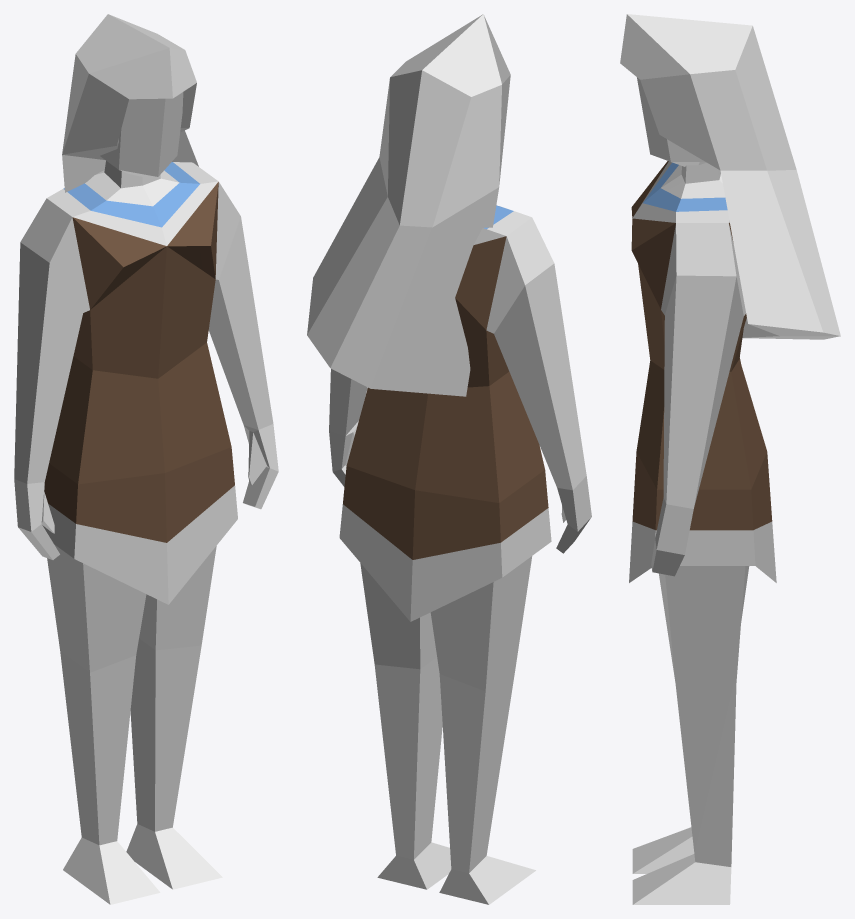
File: woman-native.fbx
The picture shows the model from 3 angles, left to right: view 1: azimuth 30°, elevation 25°; view 2: azimuth 150°, elevation 25°; view 3: azimuth 270°, elevation 25°; orthographic projection. The views are drawn at different scales.
Parts seen in each view (by area): view 1: woman-native; view 2: woman-native; view 3: woman-native.
Boxes of the visible parts, left/top/right/bottom form: woman-native: left=14, top=14, right=278, bottom=904; woman-native: left=307, top=14, right=591, bottom=904; woman-native: left=620, top=14, right=840, bottom=904.
Size of the model in its own units: 0.5219 by 1.7 by 0.3953.
